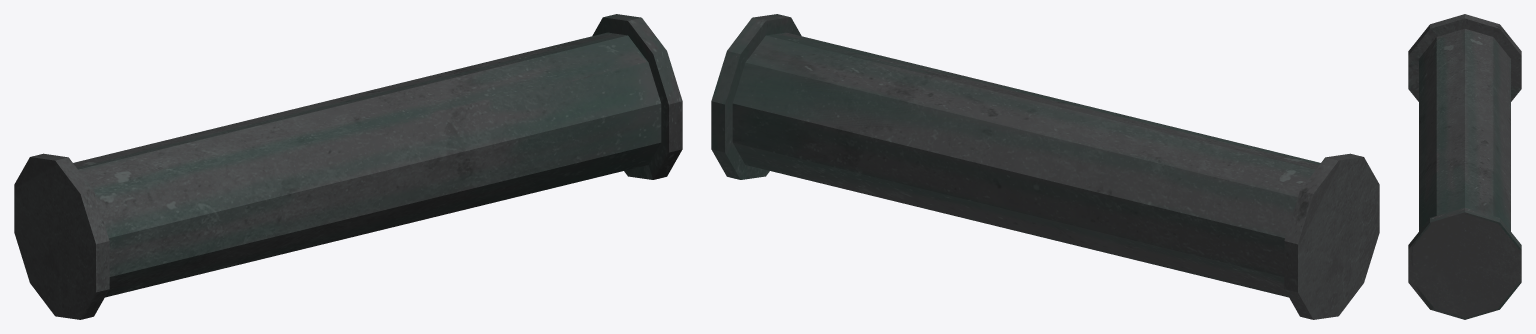
Rendered from Pipe Long Large.fbx.
The picture shows the model from 3 angles, left to right: view 1: azimuth 30°, elevation 25°; view 2: azimuth 150°, elevation 25°; view 3: azimuth 270°, elevation 25°; orthographic projection. The views are drawn at different scales.
Parts seen in each view (by area): view 1: Straight_Long_L; view 2: Straight_Long_L; view 3: Straight_Long_L.
Part boxes in pixels (x1=…): Straight_Long_L: x1=14, y1=14, x2=682, y2=319; Straight_Long_L: x1=711, y1=14, x2=1379, y2=319; Straight_Long_L: x1=1408, y1=14, x2=1521, y2=319.
Bounding box in the file's own units: 17.57 × 4.46 × 4.24.
1 material, 1 textured.
